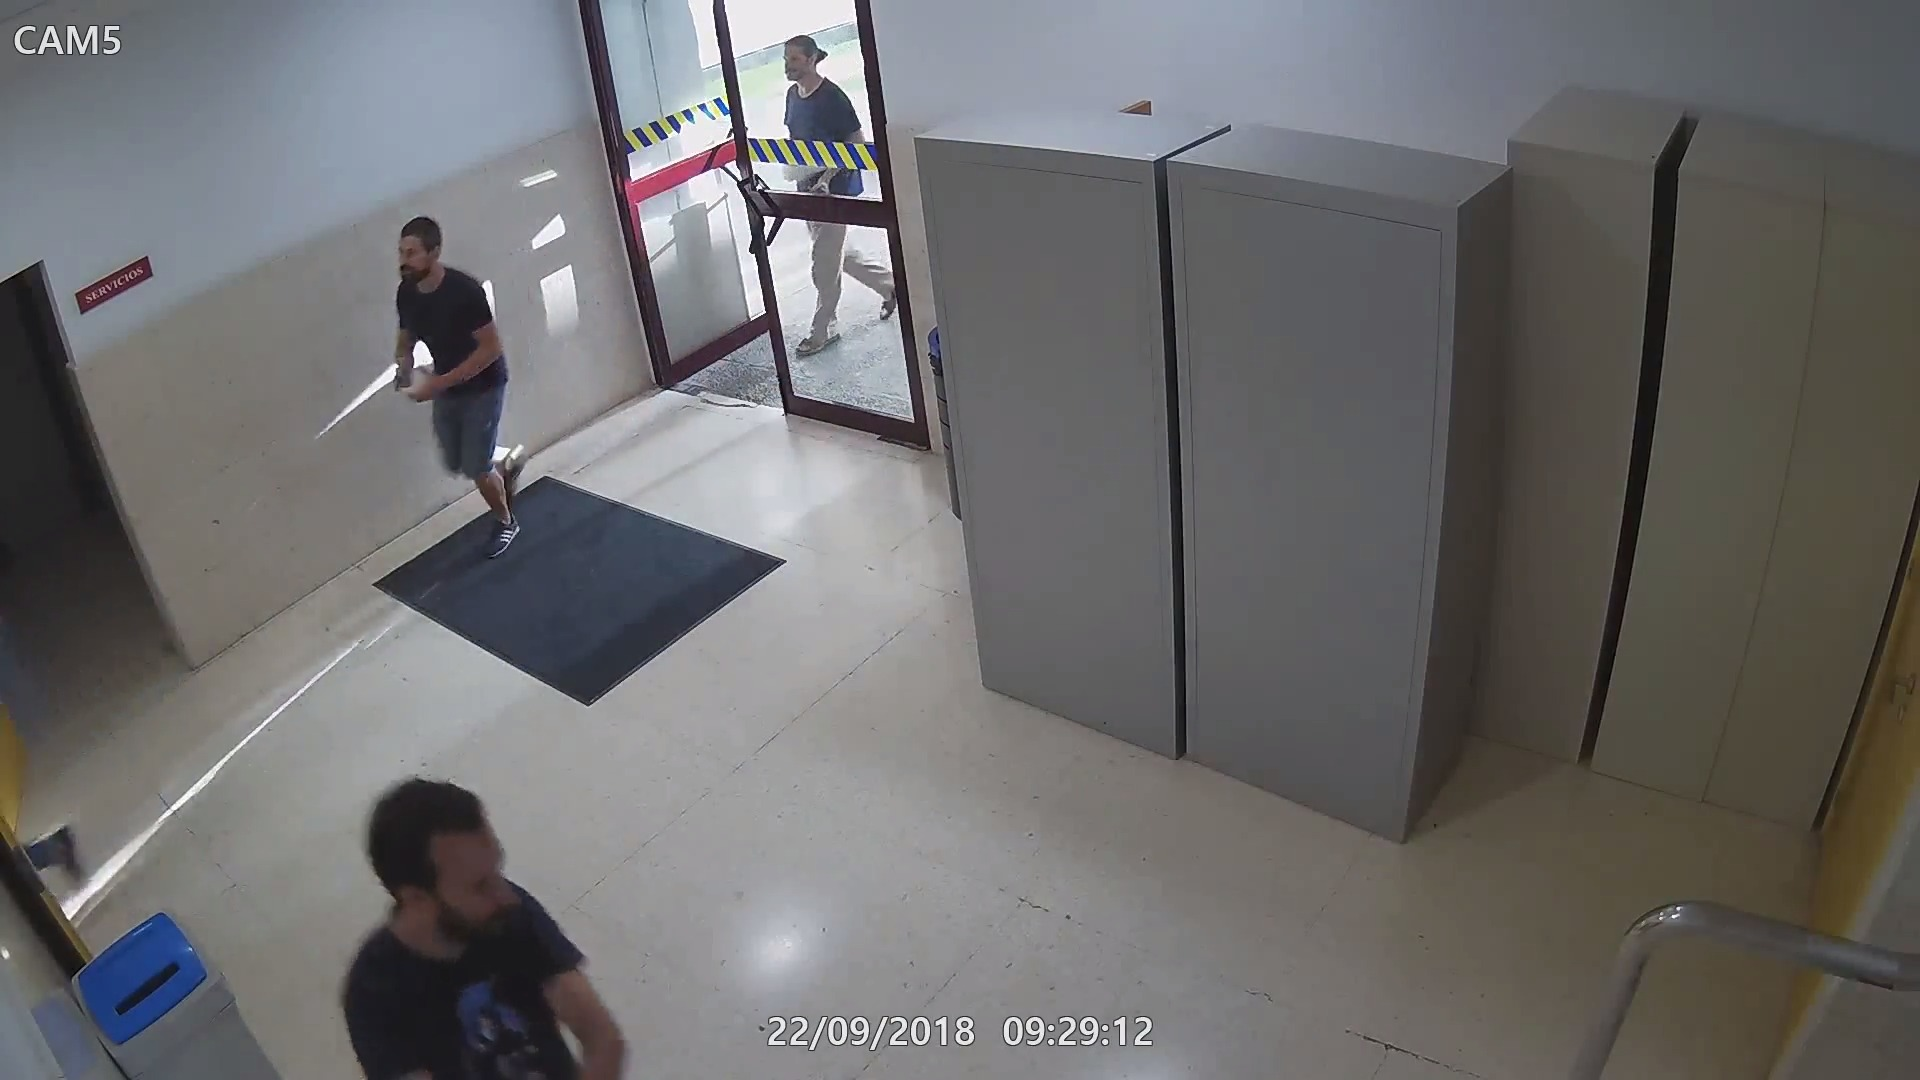Handgun: (386, 359, 429, 407)
Short_rifle: (775, 164, 831, 191)
